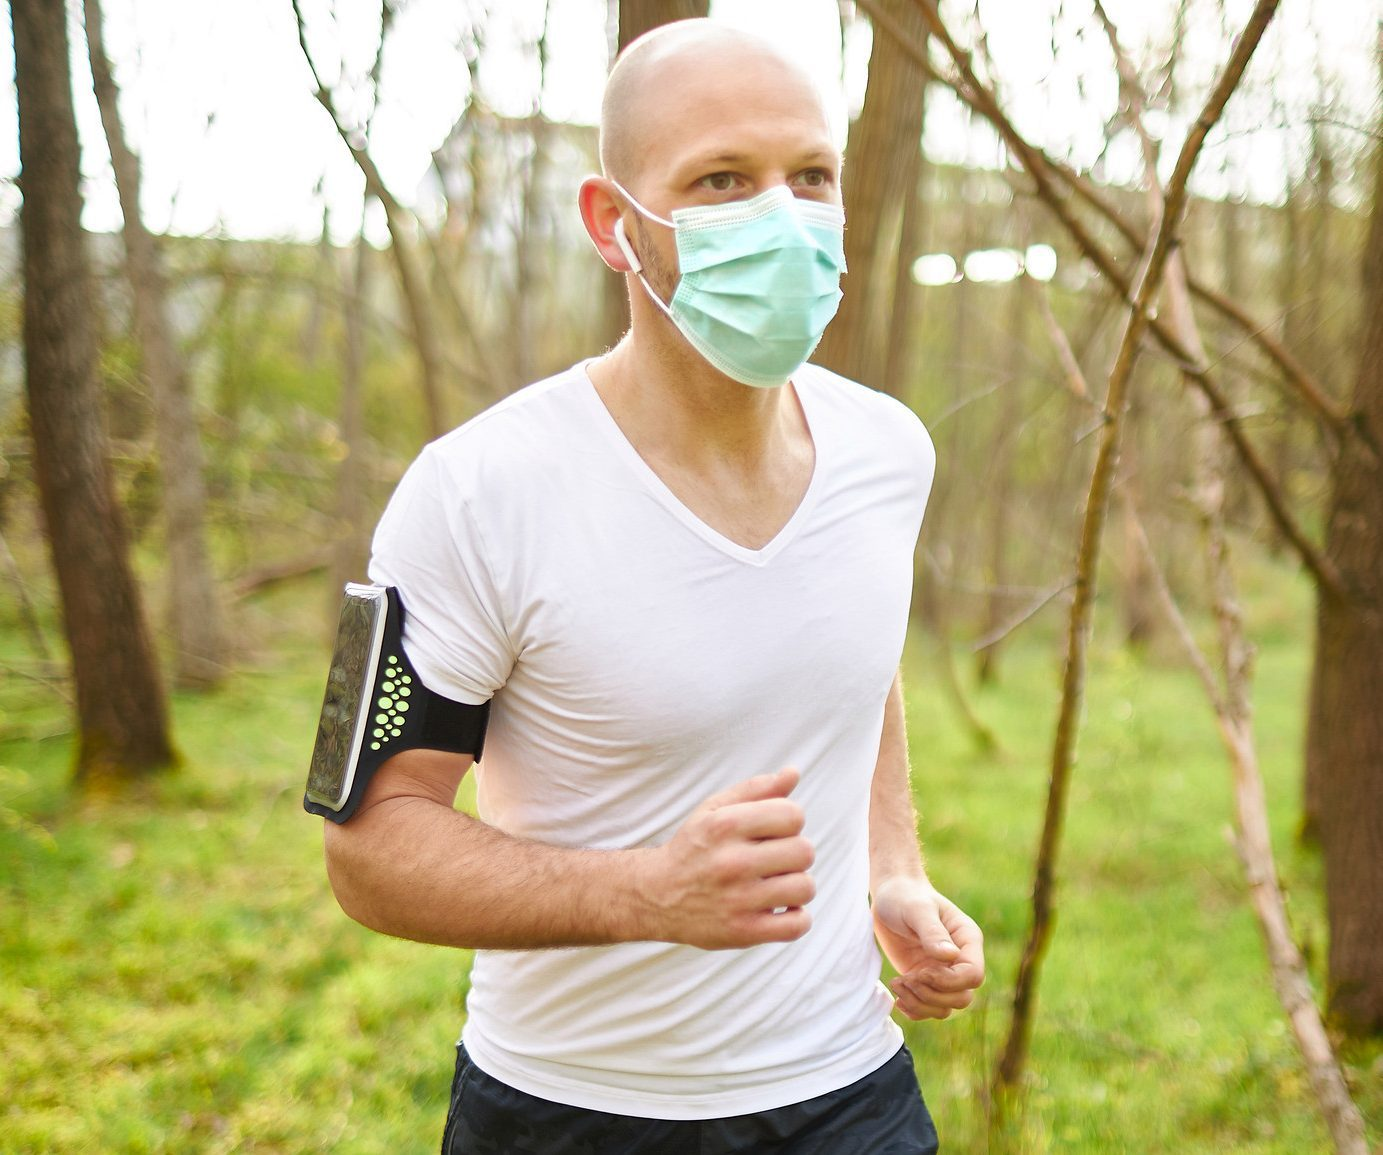with_mask: (570, 21, 887, 396)
